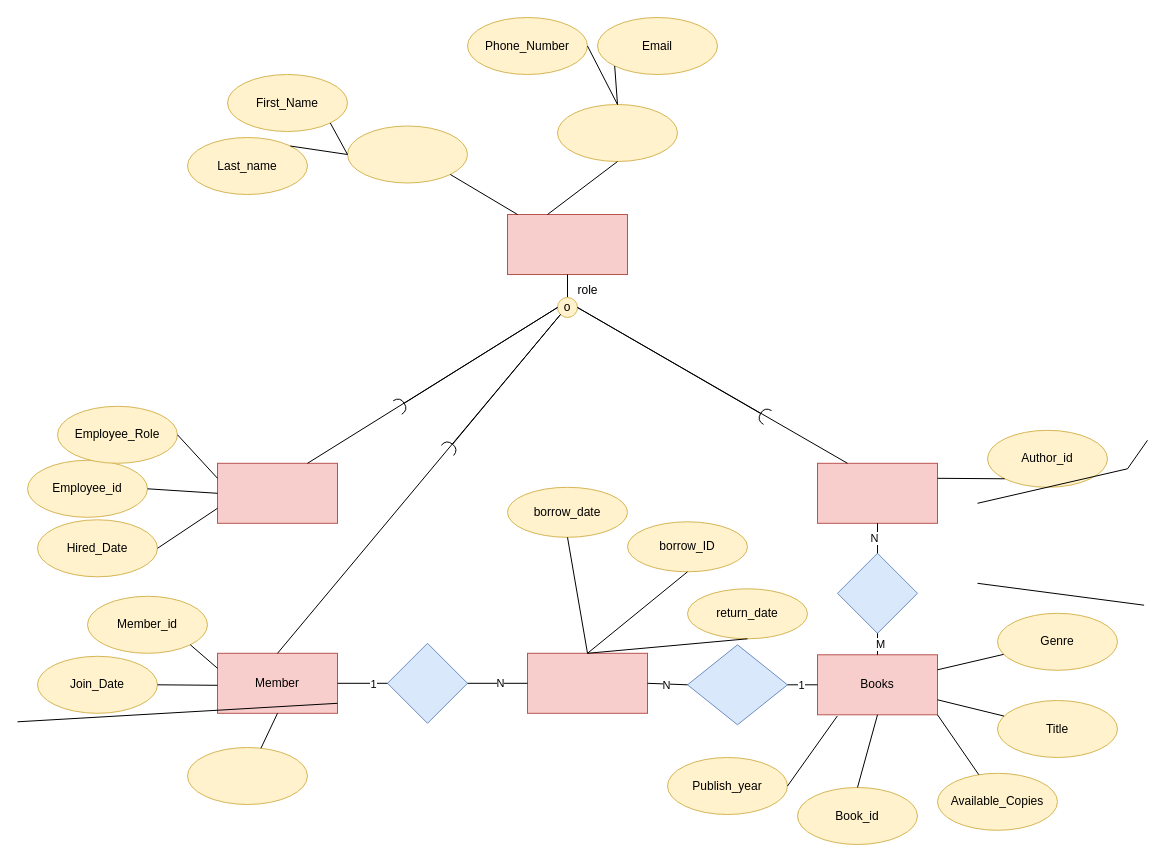
Some shapes in this 1166 by 862 pixel diagram are drawn without their labels. The box of each missing label's shape, as (x1, y1, x2, y2) in pixels:
Address: (186, 746, 308, 804)
Authors: (816, 462, 938, 523)
Borrowed: (526, 652, 648, 713)
borrows: (386, 642, 468, 723)
Contact Info: (556, 104, 678, 162)
Employee: (216, 462, 338, 523)
gets borrowed: (686, 644, 788, 725)
Name: (346, 125, 468, 183)
Person: (506, 214, 628, 274)
publishes: (836, 552, 918, 633)
